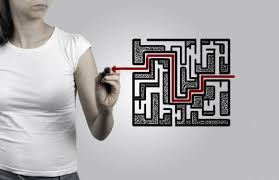maze: (133, 38, 231, 126)
